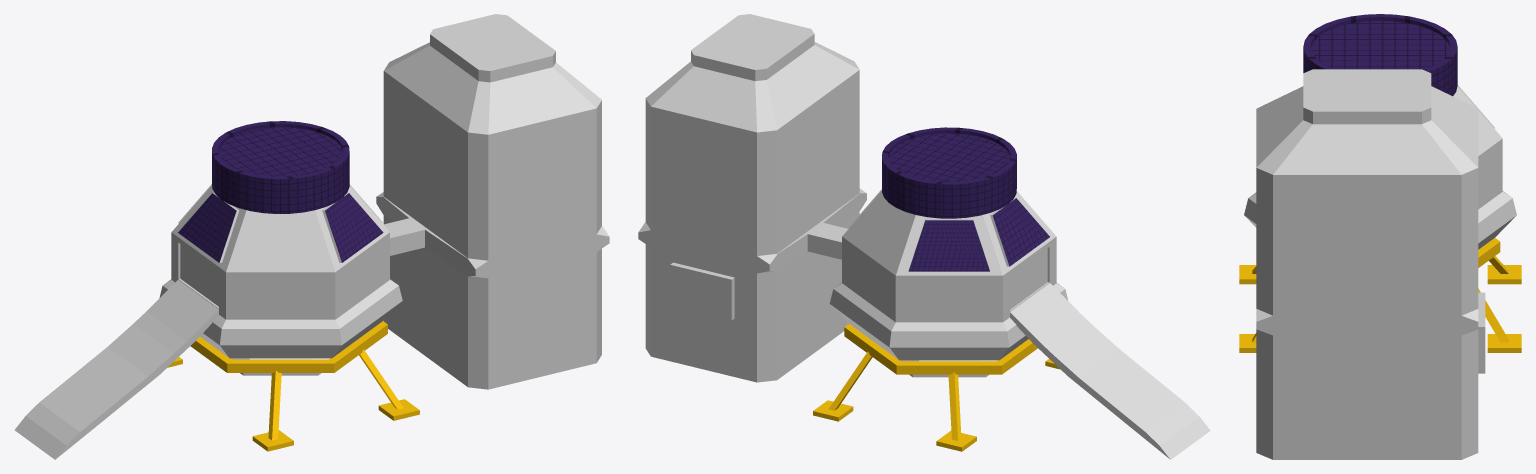
Rendered from lander.fbx.
The picture shows the model from 3 angles, left to right: view 1: azimuth 30°, elevation 25°; view 2: azimuth 150°, elevation 25°; view 3: azimuth 270°, elevation 25°; orthographic projection. The views are drawn at different scales.
Parts seen in each view (by area): view 1: Cuerpo, Solar, Patas; view 2: Cuerpo, Solar, Patas; view 3: Cuerpo, Solar, Patas.
Part boxes in pixels (x1=…): Cuerpo: x1=14, y1=14, x2=609, y2=459; Solar: x1=212, y1=121, x2=349, y2=213; Patas: x1=167, y1=321, x2=419, y2=451; Cuerpo: x1=638, y1=14, x2=1210, y2=459; Solar: x1=882, y1=127, x2=1016, y2=218; Patas: x1=813, y1=324, x2=1060, y2=451; Cuerpo: x1=1244, y1=69, x2=1516, y2=459; Solar: x1=1303, y1=14, x2=1457, y2=96; Patas: x1=1239, y1=238, x2=1521, y2=352.
Bounding box in the file's own units: 3120 × 1713 × 1312.
